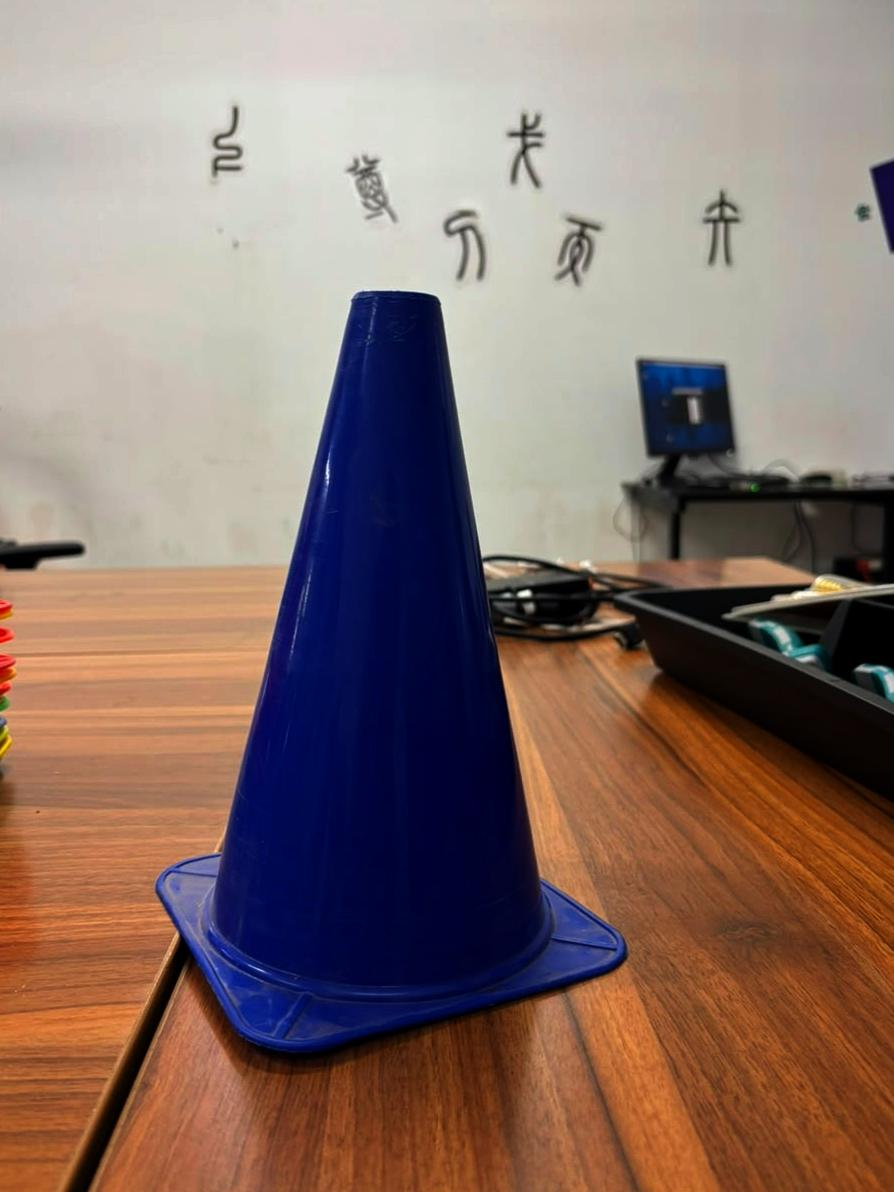0 cone: (156, 291, 625, 1054)
